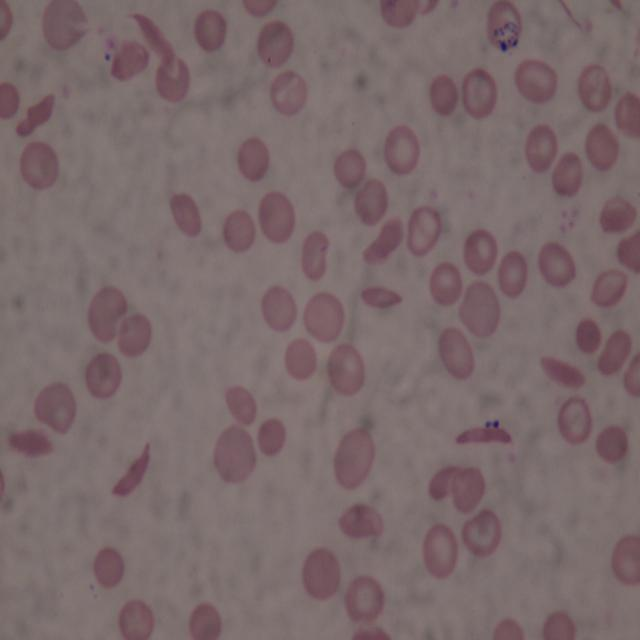Normal: (421, 521, 459, 578), (381, 126, 420, 172), (346, 574, 382, 622)
Others: (211, 426, 256, 487), (332, 427, 374, 488), (458, 278, 499, 338), (86, 284, 128, 341), (43, 0, 87, 53), (324, 342, 366, 396), (34, 382, 77, 434), (19, 139, 60, 192), (302, 290, 343, 342), (257, 191, 297, 243), (438, 326, 476, 380), (460, 506, 500, 557), (304, 546, 342, 599), (484, 3, 524, 52), (404, 207, 442, 257), (362, 217, 403, 263), (462, 67, 497, 120), (155, 53, 192, 103), (514, 60, 556, 104), (256, 21, 294, 68), (261, 284, 297, 333), (538, 243, 578, 287), (449, 466, 485, 514), (269, 72, 307, 117), (86, 352, 123, 398), (116, 311, 152, 358), (337, 503, 384, 539), (596, 328, 630, 377), (609, 531, 639, 586), (557, 396, 591, 444), (526, 122, 557, 174), (170, 192, 204, 239), (578, 65, 612, 112), (223, 384, 259, 428), (427, 261, 463, 305), (353, 177, 388, 222), (587, 120, 619, 169), (588, 269, 628, 308), (598, 194, 636, 235), (111, 41, 148, 83), (222, 208, 256, 252), (284, 336, 318, 380), (496, 251, 528, 297), (187, 600, 223, 640), (301, 232, 330, 281), (118, 601, 156, 638), (552, 152, 583, 197), (464, 230, 496, 273), (92, 547, 126, 587), (237, 138, 269, 180), (195, 8, 226, 51), (429, 74, 459, 118), (254, 416, 286, 457), (614, 231, 640, 278), (379, 0, 424, 27), (615, 89, 640, 137), (334, 149, 364, 188), (428, 463, 458, 502), (597, 425, 628, 462), (540, 611, 574, 640), (576, 318, 602, 352), (348, 620, 392, 638), (1, 80, 20, 120), (621, 352, 637, 399), (492, 617, 523, 640), (239, 0, 280, 17), (2, 0, 15, 42), (26, 106, 51, 125)
Sickle: (125, 12, 177, 80), (108, 437, 152, 499), (14, 90, 55, 138), (536, 354, 586, 391), (6, 428, 56, 458), (358, 282, 405, 308), (456, 425, 512, 446), (419, 0, 440, 18), (608, 0, 626, 14)
